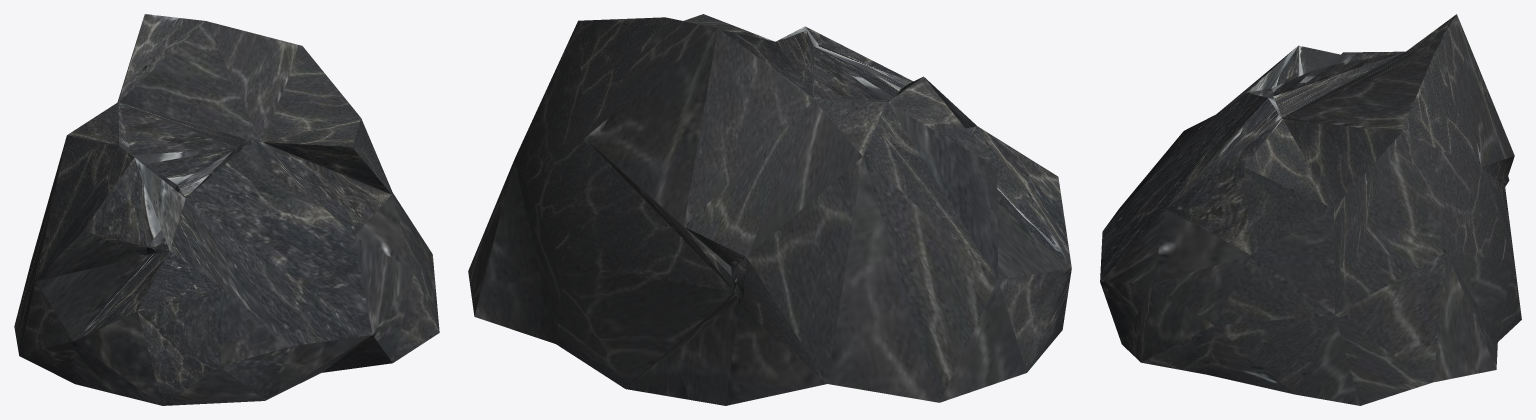
File: fc_frostfractured_coastal_rock_lod1.glb
3 views of the same model, side by side, from view 1: azimuth 30°, elevation 25°; view 2: azimuth 150°, elevation 25°; view 3: azimuth 270°, elevation 25° (orthographic). The views are drawn at different scales.
Visible parts, largest first — view 1: mesh; view 2: mesh; view 3: mesh.
Boxes of the visible parts, x1,y1,x2,y2 form: mesh: [14, 14, 439, 405]; mesh: [468, 14, 1071, 405]; mesh: [1100, 14, 1521, 405].
Size of the model in its own units: 1.75 by 1.13 by 1.53.
1 material, 1 textured.
